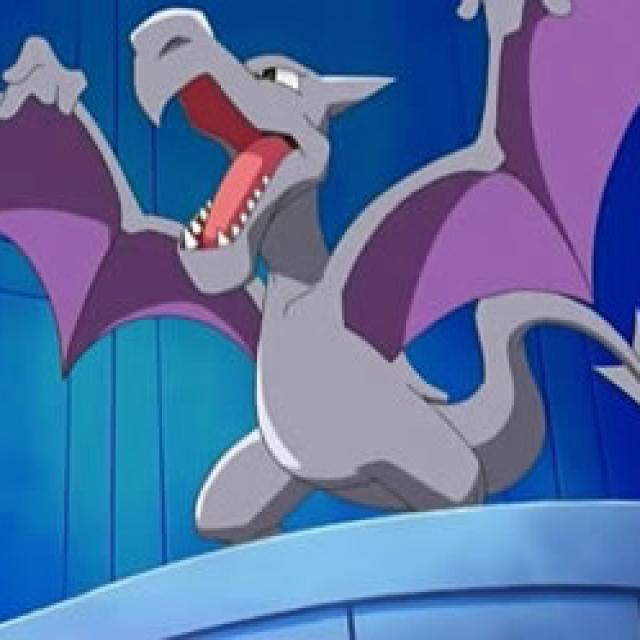Aerodactyl: (79, 4, 512, 536)
